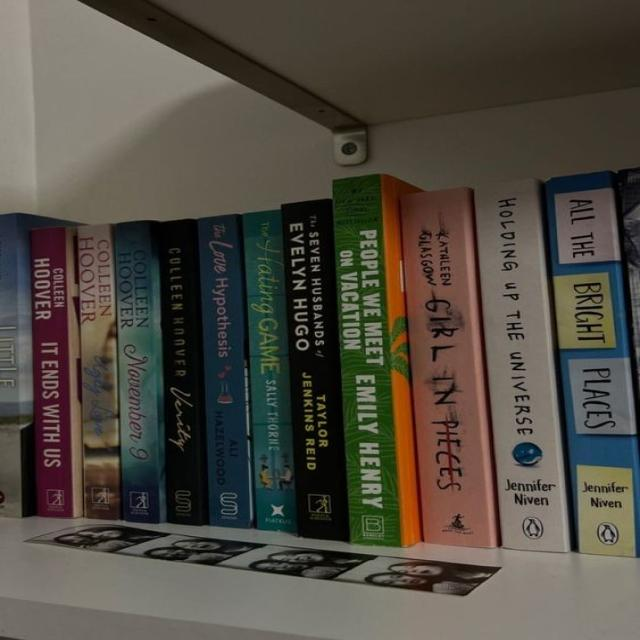book: (475, 177, 572, 551), (549, 172, 639, 555), (399, 187, 494, 548), (333, 174, 405, 545), (283, 197, 347, 540), (242, 210, 297, 530), (199, 212, 252, 529), (114, 219, 159, 523), (159, 218, 202, 526), (77, 224, 120, 519), (30, 227, 71, 516)
